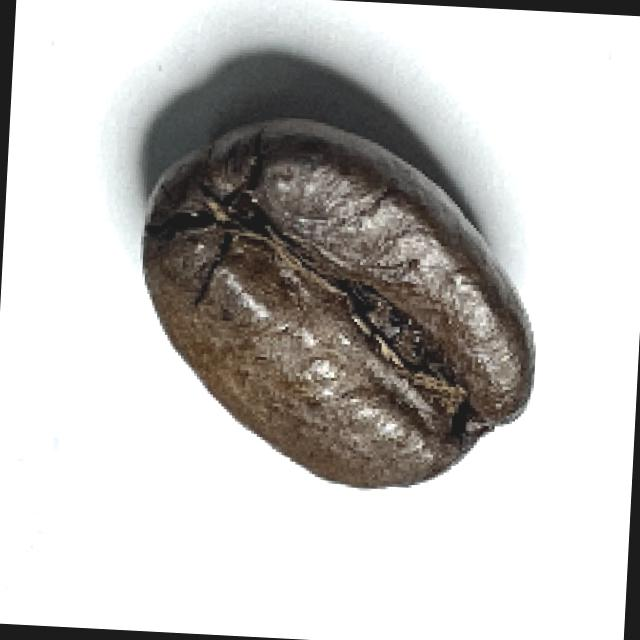bean: (128, 110, 556, 505)
